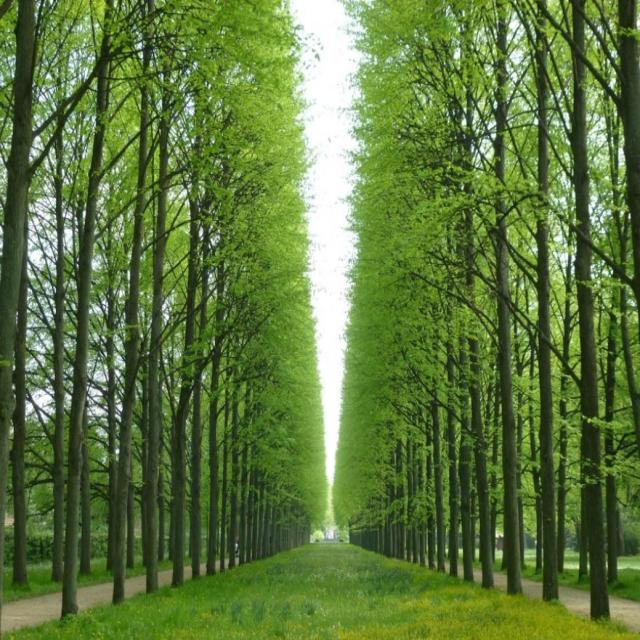row: (19, 539, 637, 640)
